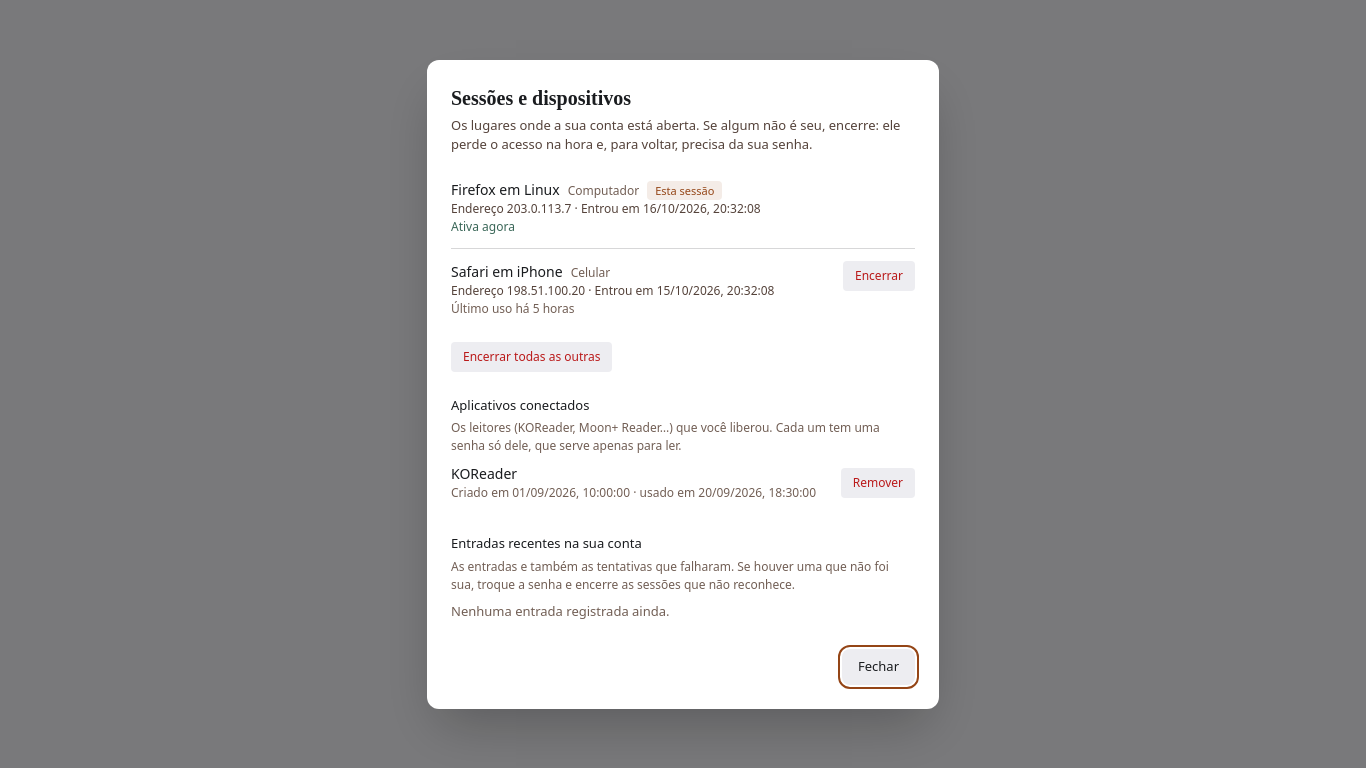
it: SessionsModal › the apps › removes one after asking
Click the button with aria-label "Remover o acesso KOReader": click(878, 482) [841, 468, 915, 498]
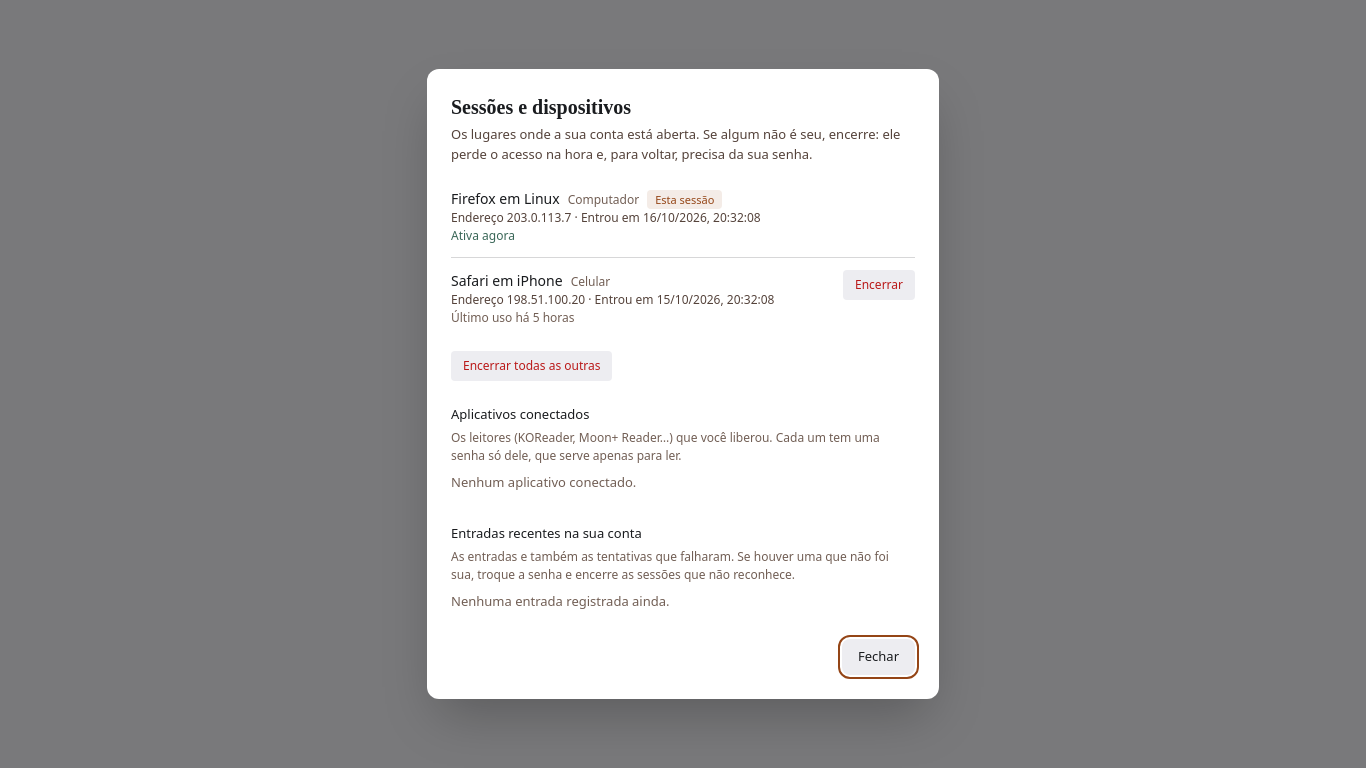
Check: the dialog shows "Nenhum aplicativo conectado.", box [451, 473, 636, 491]
